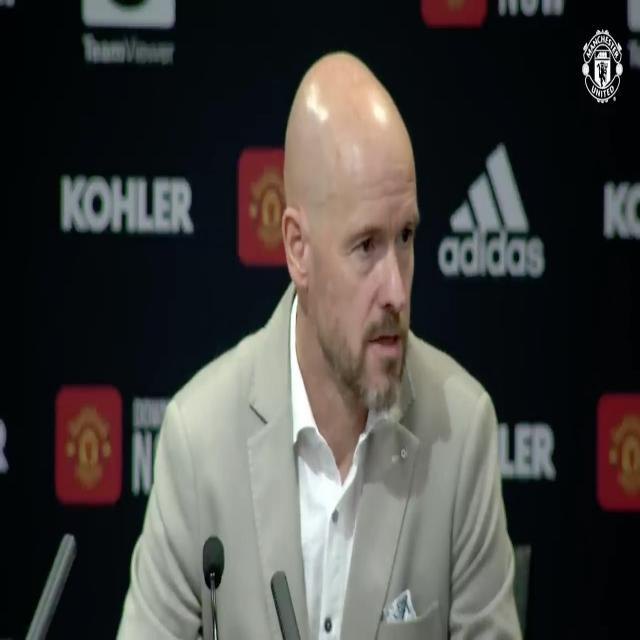Adidas: (438, 141, 548, 280)
Kohler: (61, 177, 194, 233)
TeamViewer: (83, 0, 174, 65)
